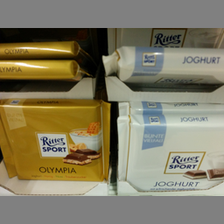chocolate: (1, 97, 109, 182), (114, 114, 224, 192), (100, 44, 224, 86)
